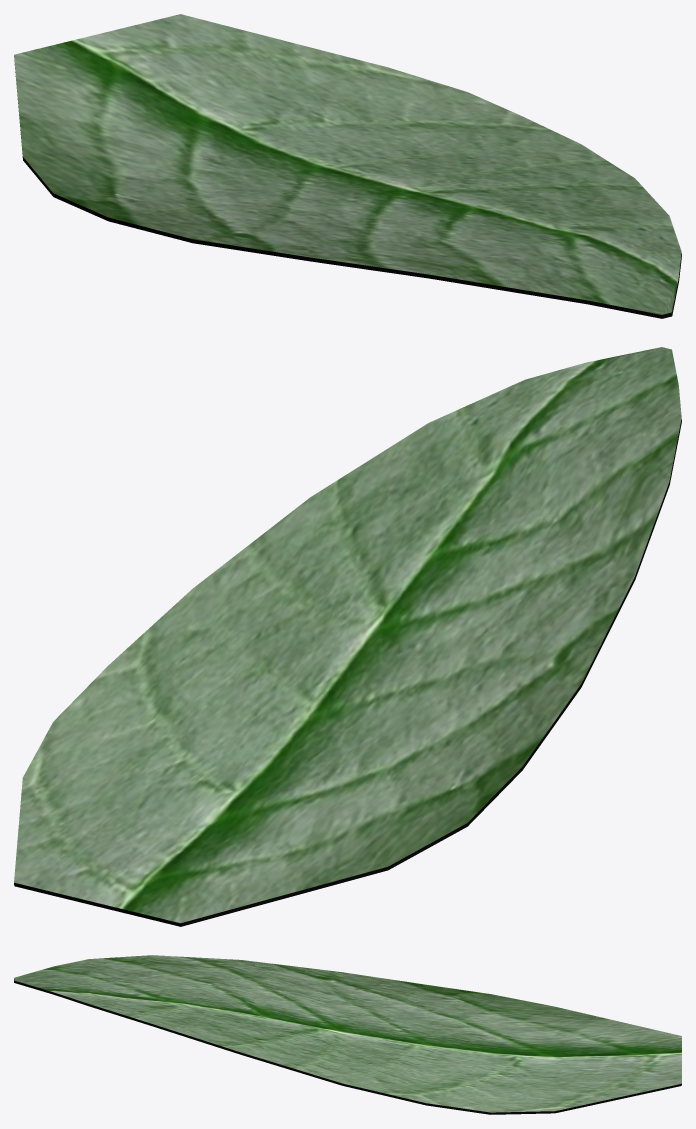
Rendered from leaf.glb.
3 renders of one model, top to bottom at view 1: azimuth 30°, elevation 25°; view 2: azimuth 150°, elevation 25°; view 3: azimuth 270°, elevation 25°, orthographic. The views are drawn at different scales.
Parts seen in each view (by area): view 1: Plane; view 2: Plane; view 3: Plane.
Part boxes in pixels (x1,y1,x2,y2): Plane: (14, 14, 681, 318); Plane: (14, 347, 681, 926); Plane: (14, 955, 681, 1114).
Bounding box in the file's own units: 0.9674 × 0.3158 × 2.31.
1 material, 1 textured.
